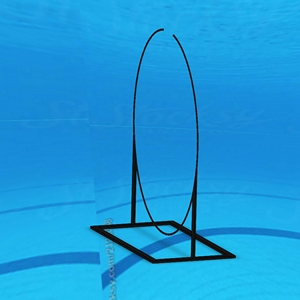circle: (90, 26, 238, 267)
